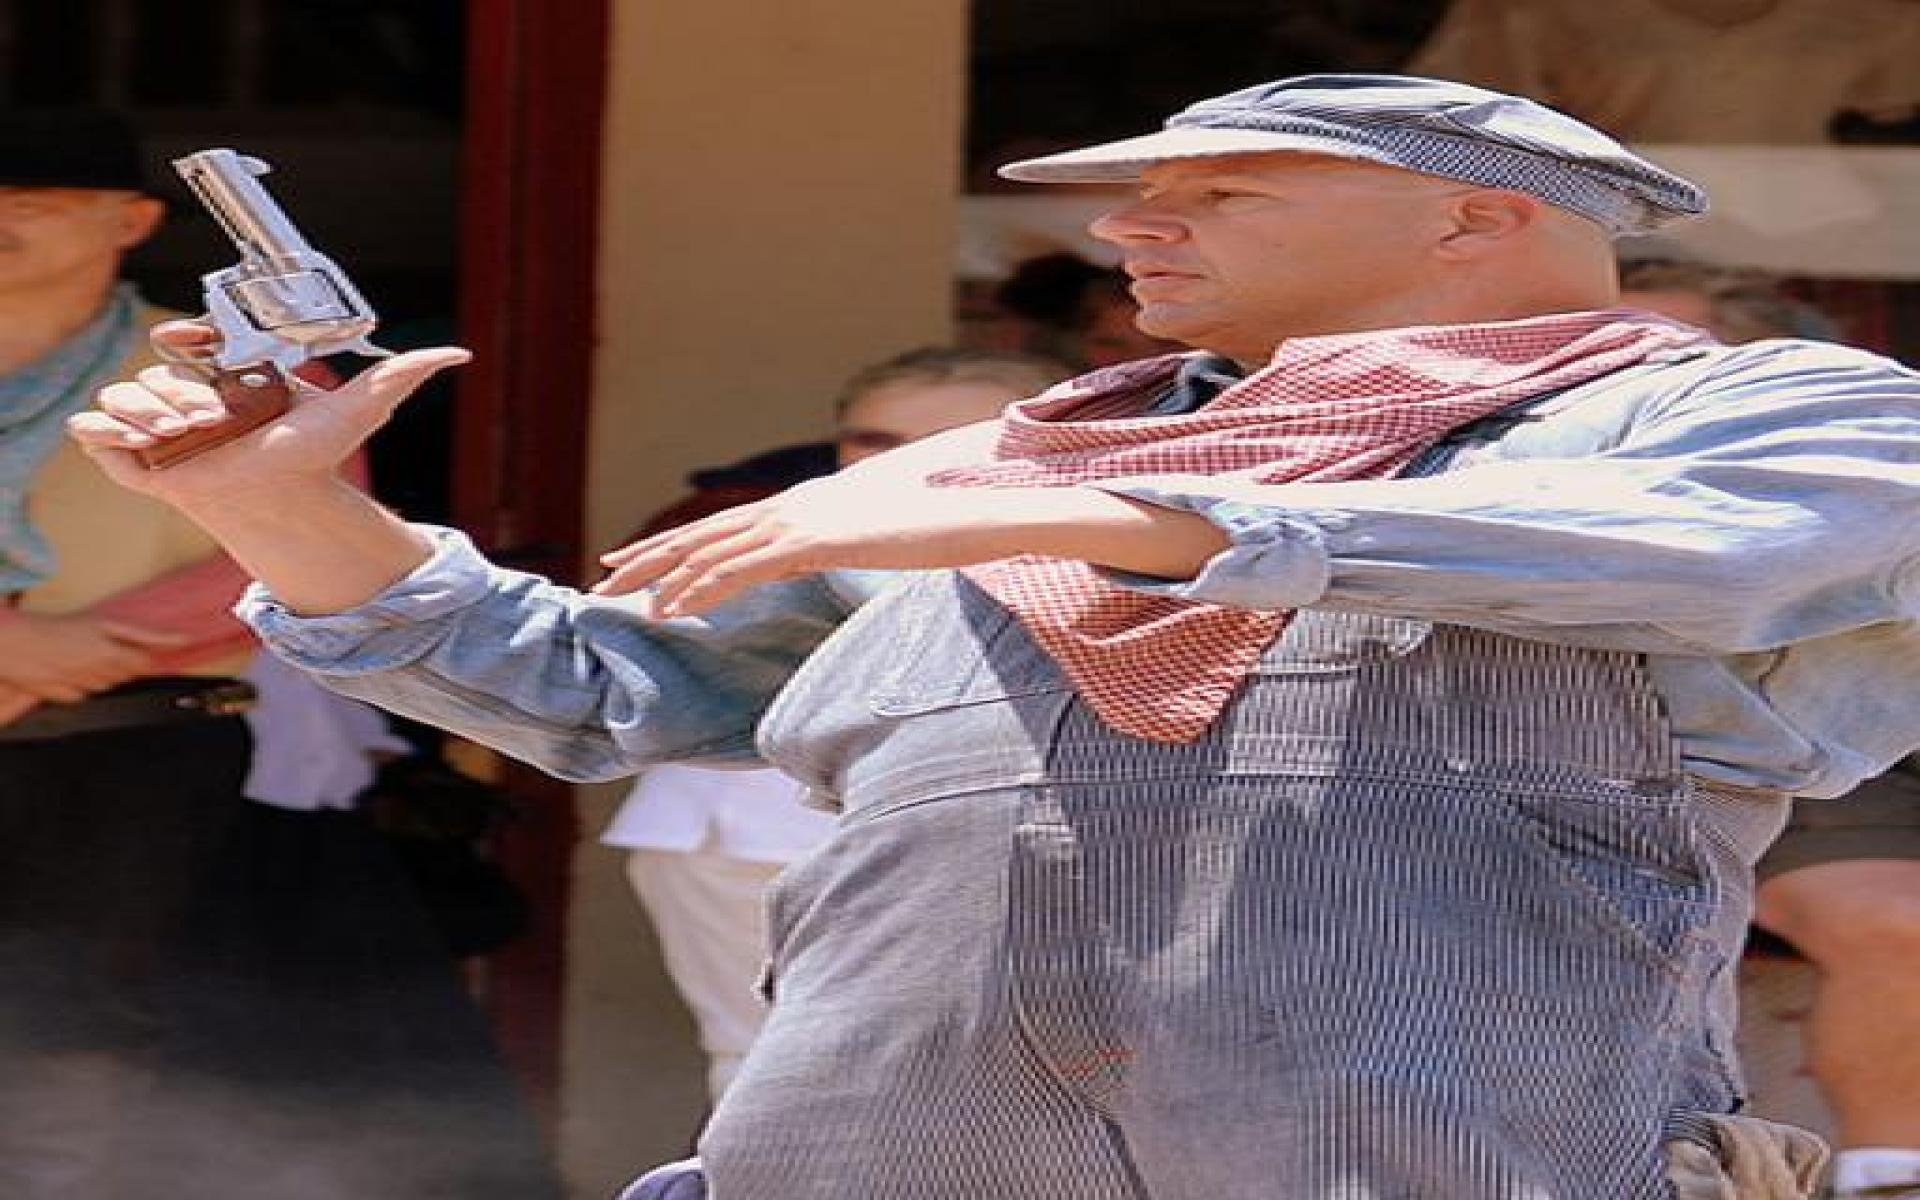gun: (98, 142, 390, 471)
